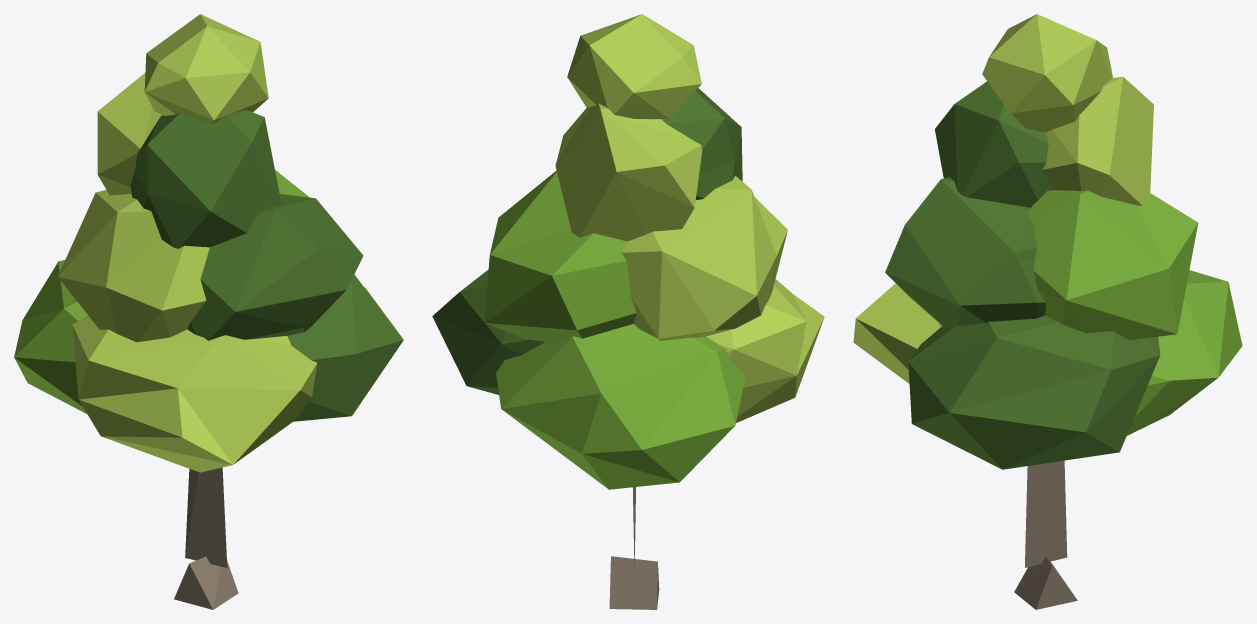
File: tree_beech_1_lod1.glb
The picture shows the model from 3 angles, left to right: view 1: azimuth 30°, elevation 25°; view 2: azimuth 150°, elevation 25°; view 3: azimuth 270°, elevation 25°; orthographic projection.
Parts seen in each view (by area): view 1: tree_beech_1_lod1; view 2: tree_beech_1_lod1; view 3: tree_beech_1_lod1.
Boxes of the visible parts, bbox=[...] form: tree_beech_1_lod1: bbox=[14, 14, 403, 609]; tree_beech_1_lod1: bbox=[432, 14, 824, 609]; tree_beech_1_lod1: bbox=[853, 14, 1242, 609].
Size of the model in its own units: 6.12 by 10.33 by 6.27.
